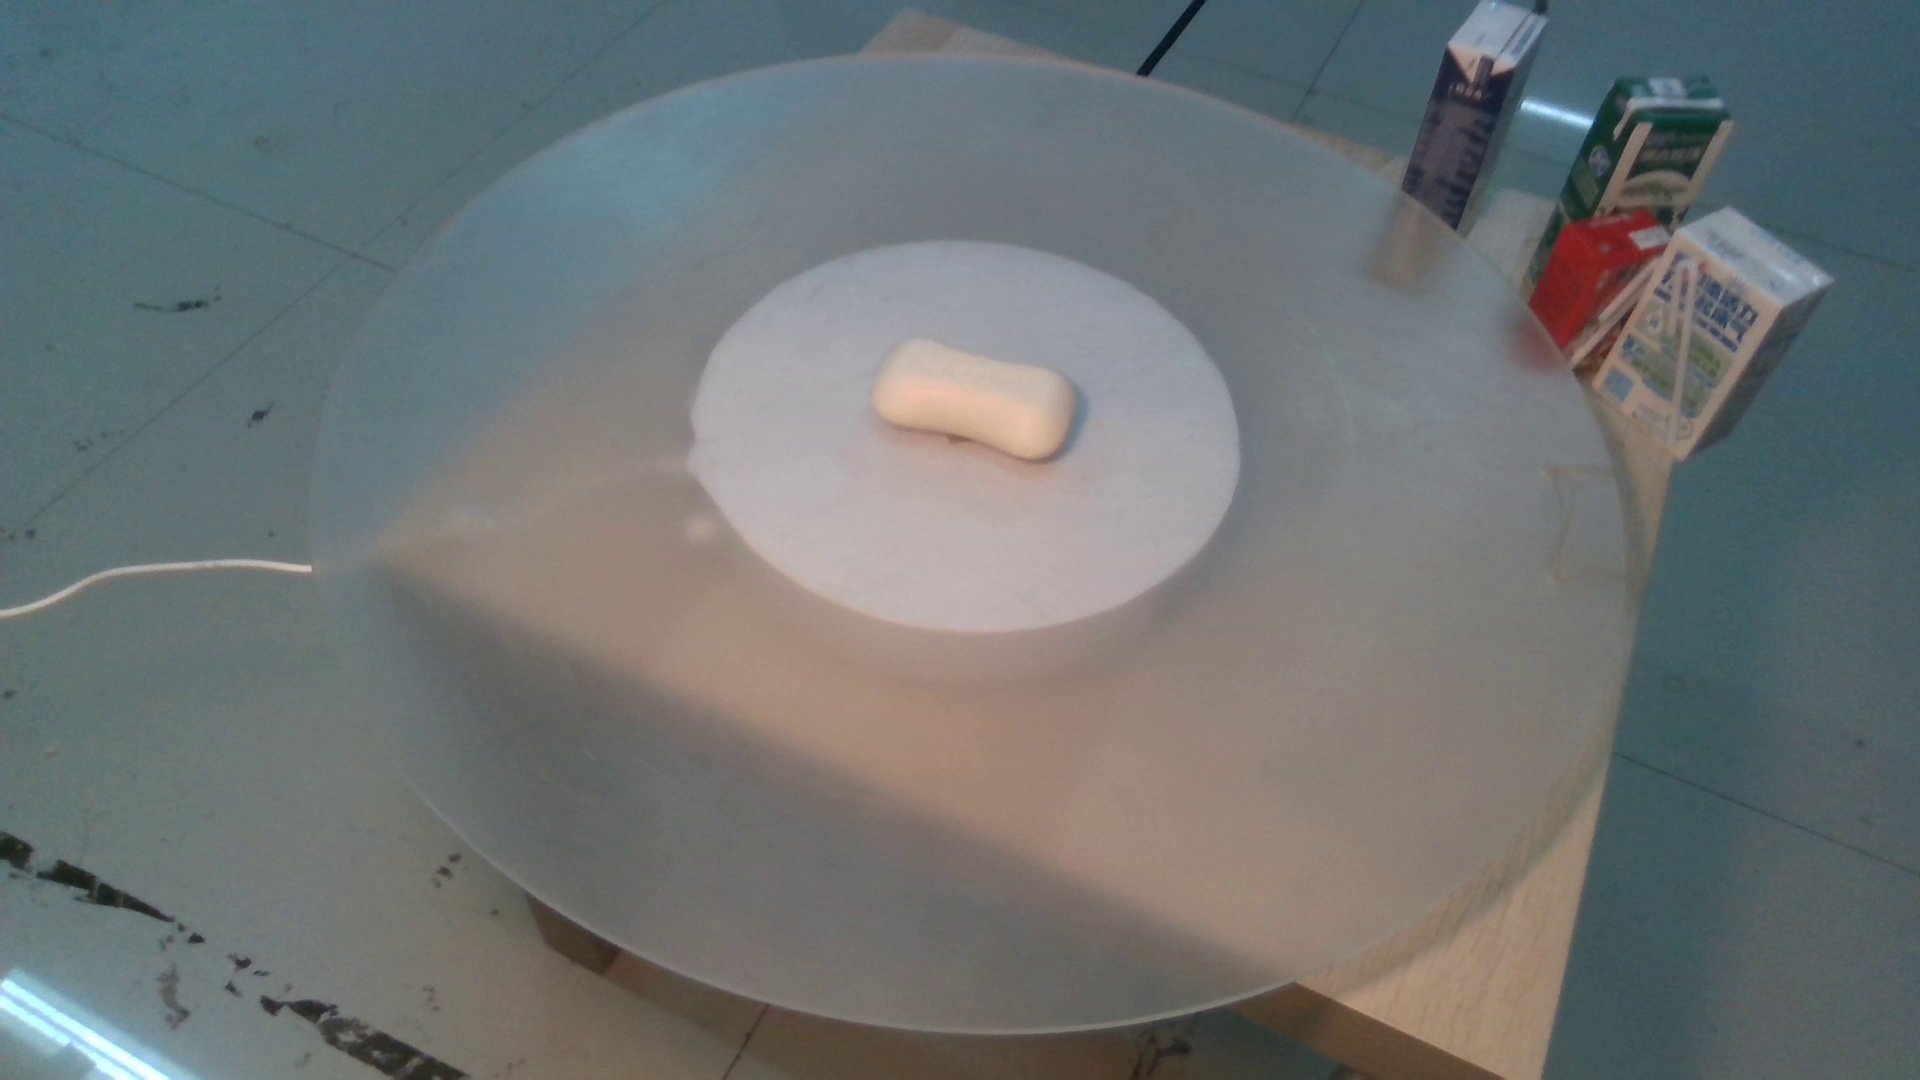CA003_1: (847, 318, 1124, 468)
